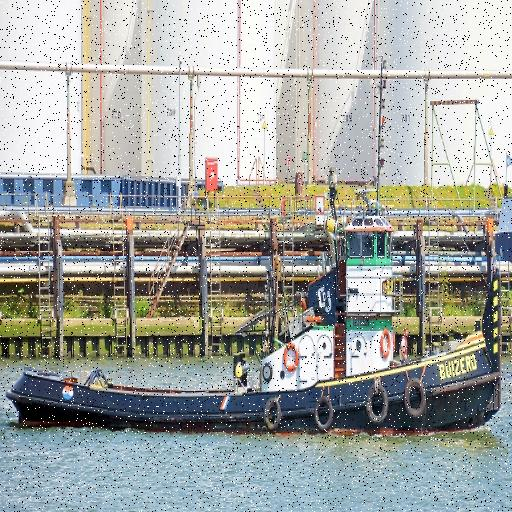tugboat: (3, 49, 507, 455)
